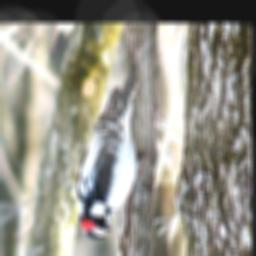Woodpecker: (72, 60, 147, 238)
